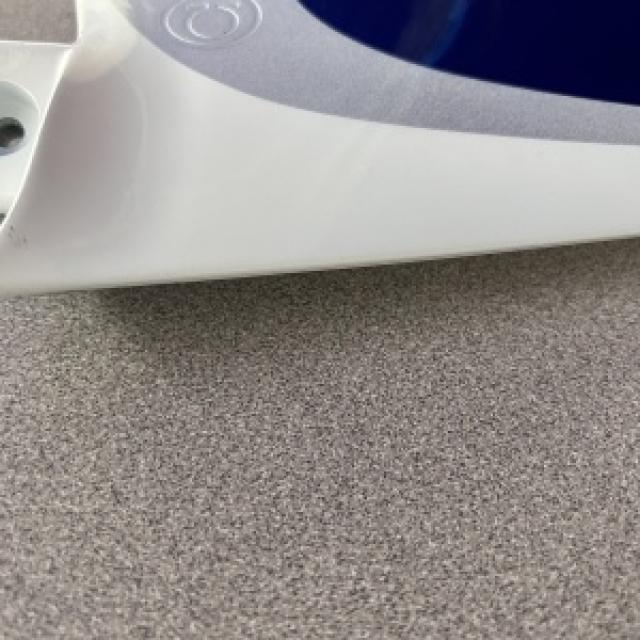healthy: (0, 0, 638, 292)
